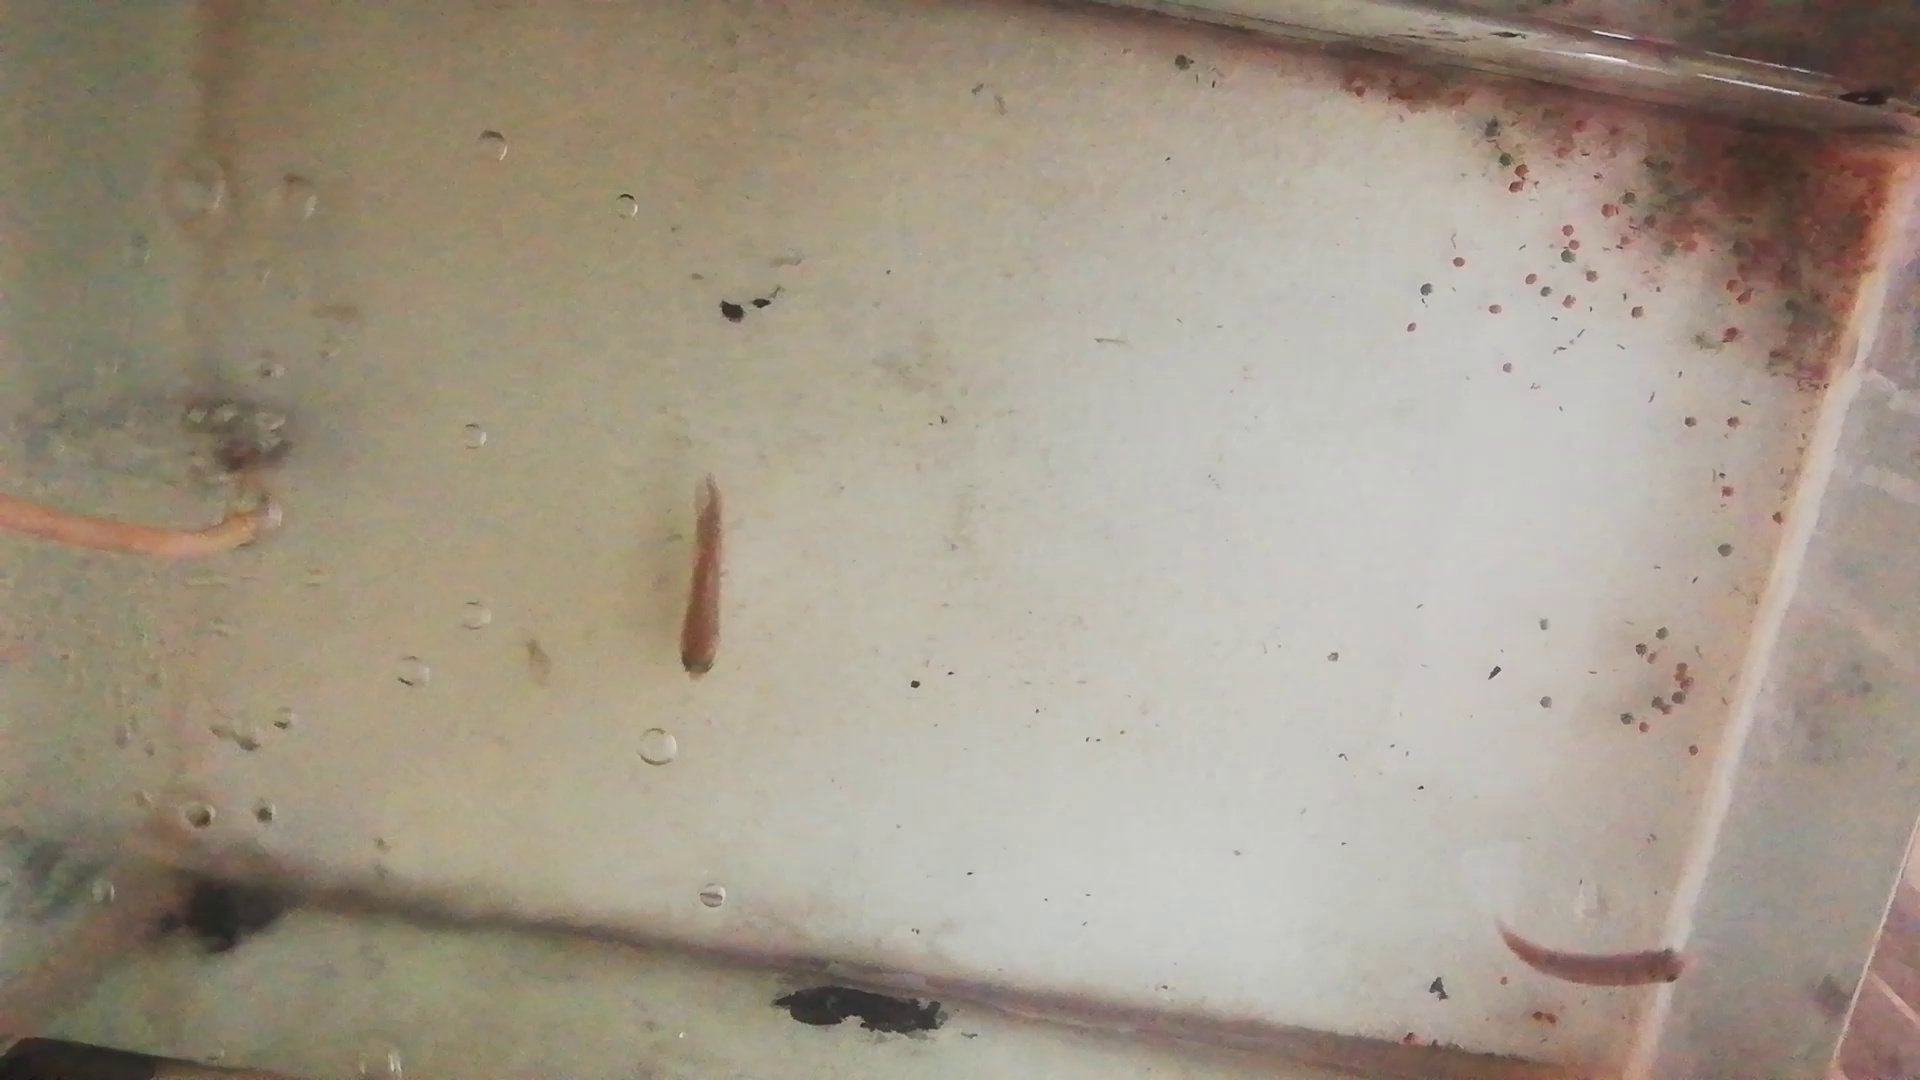fish: (669, 473, 731, 684), (1499, 928, 1685, 989)
